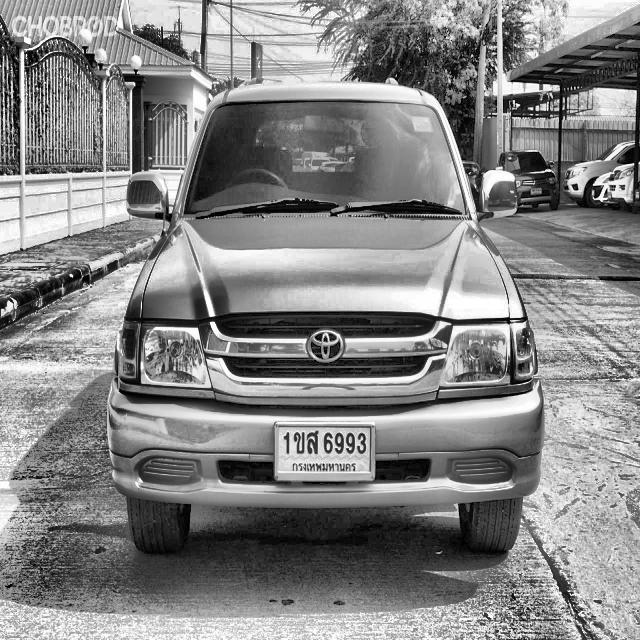license-plate: (272, 408, 379, 490)
